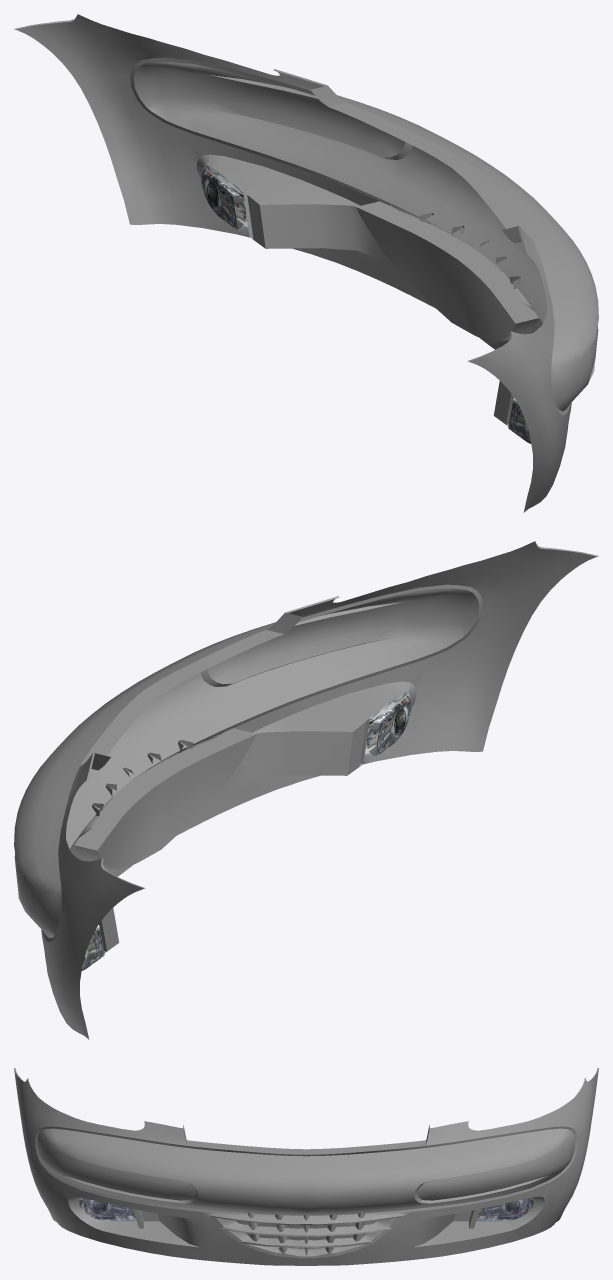
3 renders of one model, top to bottom at view 1: azimuth 30°, elevation 25°; view 2: azimuth 150°, elevation 25°; view 3: azimuth 270°, elevation 25°, orthographic. The views are drawn at different scales.
Parts seen in each view (by area): view 1: M720_021G_C_M720_021G_C_2_DaS, M720_021G_C_3_DaS_M720_021G_C, M720_021G_C_M720_021G_C_2_DaS_E, M720_021G_C_M720_021G_C_6_N, M720_021G_C_3_DaS_M720_021G_C_E; view 2: M720_021G_C_M720_021G_C_2_DaS, M720_021G_C_3_DaS_M720_021G_C, M720_021G_C_M720_021G_C_2_DaS_E, M720_021G_C_M720_021G_C_5_N, M720_021G_C_3_DaS_M720_021G_C_E; view 3: M720_021G_C_3_DaS_M720_021G_C, M720_021G_C_M720_021G_C_2_DaS, M720_021G_C_M720_021G_C_2_DaS_E, M720_021G_C_3_DaS_M720_021G_C_E, M720_021G_C_M720_021G_C_6_N, M720_021G_C_M720_021G_C_5_N, M720_021G_C_M720_021G_C_4_DTaSI, M720_021G_C_M720_021G_C_1_DTaSI.
Boxes of the visible parts, left/top/right/bottom form: M720_021G_C_M720_021G_C_2_DaS: left=16, top=14, right=571, bottom=512; M720_021G_C_3_DaS_M720_021G_C: left=134, top=61, right=598, bottom=411; M720_021G_C_M720_021G_C_2_DaS_E: left=14, top=15, right=570, bottom=426; M720_021G_C_M720_021G_C_6_N: left=201, top=165, right=249, bottom=236; M720_021G_C_3_DaS_M720_021G_C_E: left=210, top=75, right=595, bottom=383; M720_021G_C_M720_021G_C_2_DaS: left=41, top=541, right=596, bottom=1039; M720_021G_C_3_DaS_M720_021G_C: left=14, top=588, right=478, bottom=938; M720_021G_C_M720_021G_C_2_DaS_E: left=42, top=542, right=598, bottom=953; M720_021G_C_M720_021G_C_5_N: left=363, top=692, right=411, bottom=763; M720_021G_C_3_DaS_M720_021G_C_E: left=17, top=602, right=402, bottom=910; M720_021G_C_3_DaS_M720_021G_C: left=37, top=1128, right=575, bottom=1215; M720_021G_C_M720_021G_C_2_DaS: left=14, top=1069, right=598, bottom=1265; M720_021G_C_M720_021G_C_2_DaS_E: left=14, top=1068, right=598, bottom=1256; M720_021G_C_3_DaS_M720_021G_C_E: left=65, top=1171, right=547, bottom=1203; M720_021G_C_M720_021G_C_6_N: left=476, top=1197, right=533, bottom=1221; M720_021G_C_M720_021G_C_5_N: left=79, top=1197, right=136, bottom=1221; M720_021G_C_M720_021G_C_4_DTaSI: left=79, top=1197, right=136, bottom=1220; M720_021G_C_M720_021G_C_1_DTaSI: left=476, top=1197, right=533, bottom=1220.
Size of the model in its own units: 75.83 by 53.59 by 216.
